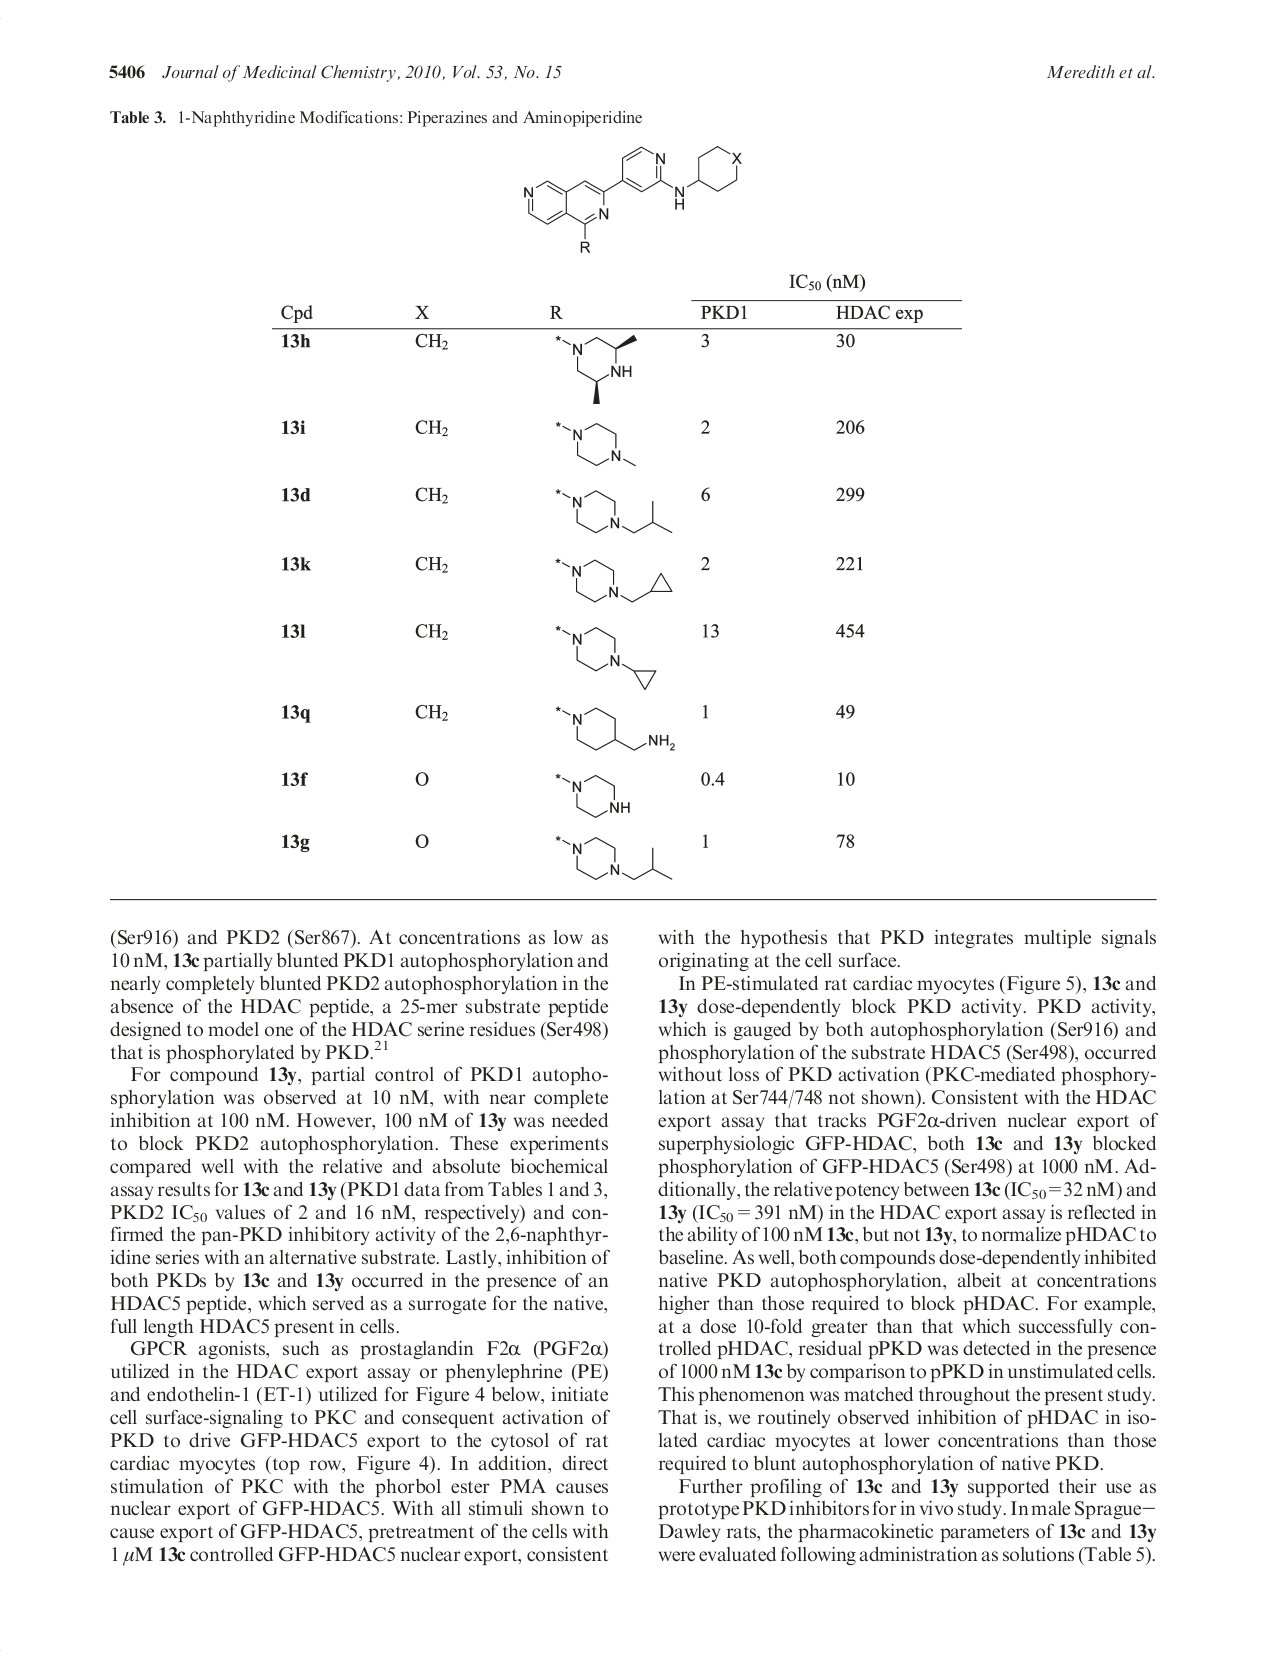exist_molecular: (519, 140, 750, 254), (547, 614, 664, 696), (547, 479, 674, 543), (552, 326, 652, 407), (555, 698, 678, 759), (553, 549, 678, 605), (557, 830, 672, 890), (548, 411, 642, 475), (544, 767, 638, 822)
